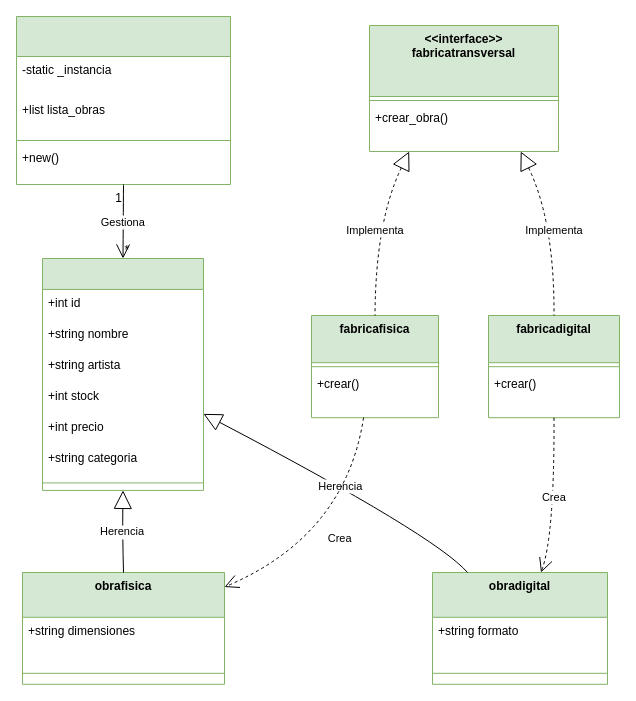
The diagram is 636 pixels wide and 701 high, and some of its shapes have lost their labels. The shapes that lost their labels are listed below. From the top down, each one's box as (x1, y1, x2, y2) in pixels, then its label:
(16, 16, 230, 184): inventariosistema
(42, 258, 204, 490): obra
